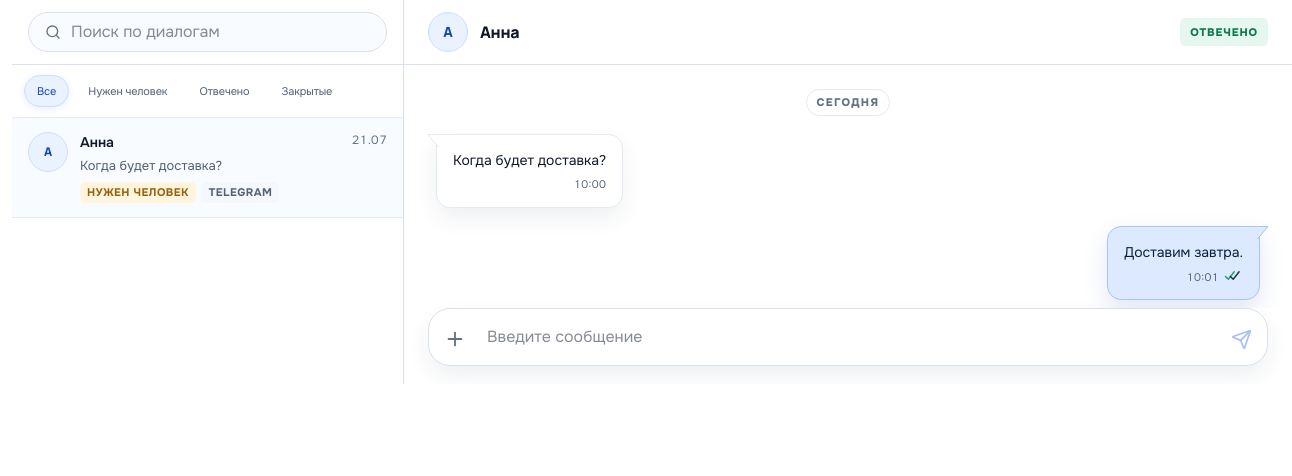
InboxPage live actions › keeps a sent bubble stable when the API omits the optional message field
Expected: the heading "Анна" is shown, [480,20,519,44]
Type "Fallback confirmed message" into the text box with placeholder "Введите сообщение" at [848, 337], box [481,315,1215,359]
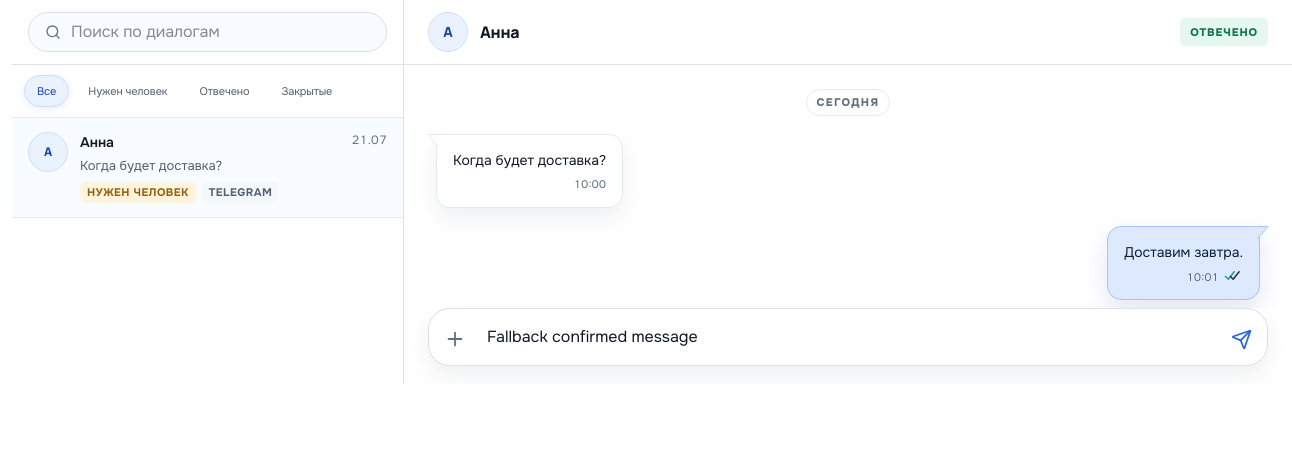
Submit the form with test id "inbox-composer-region", box [404,308,1291,384]
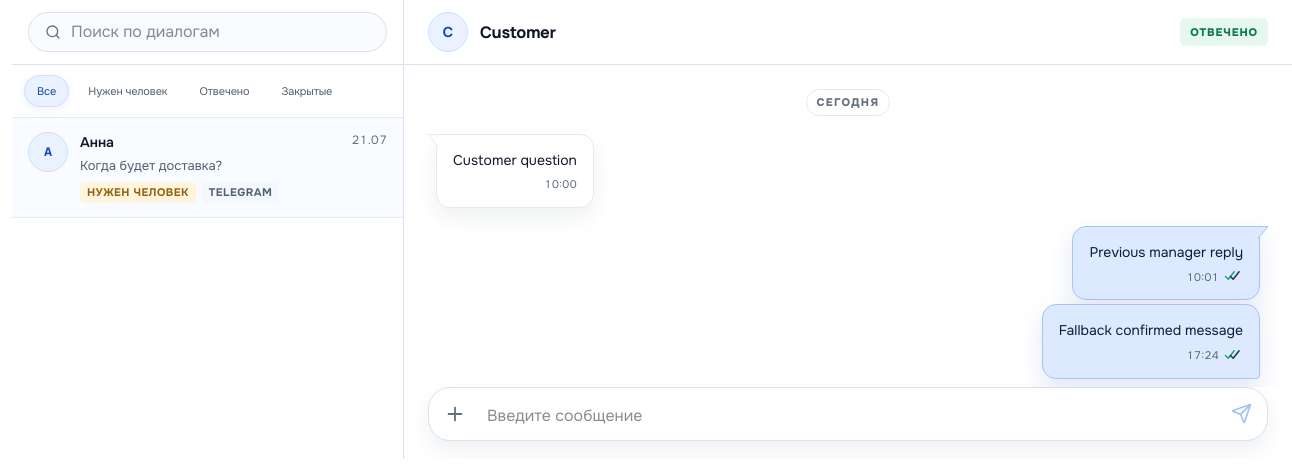
Now the element named "Отправлено" next to "17:24" is shown, box [1223,348,1243,364]
